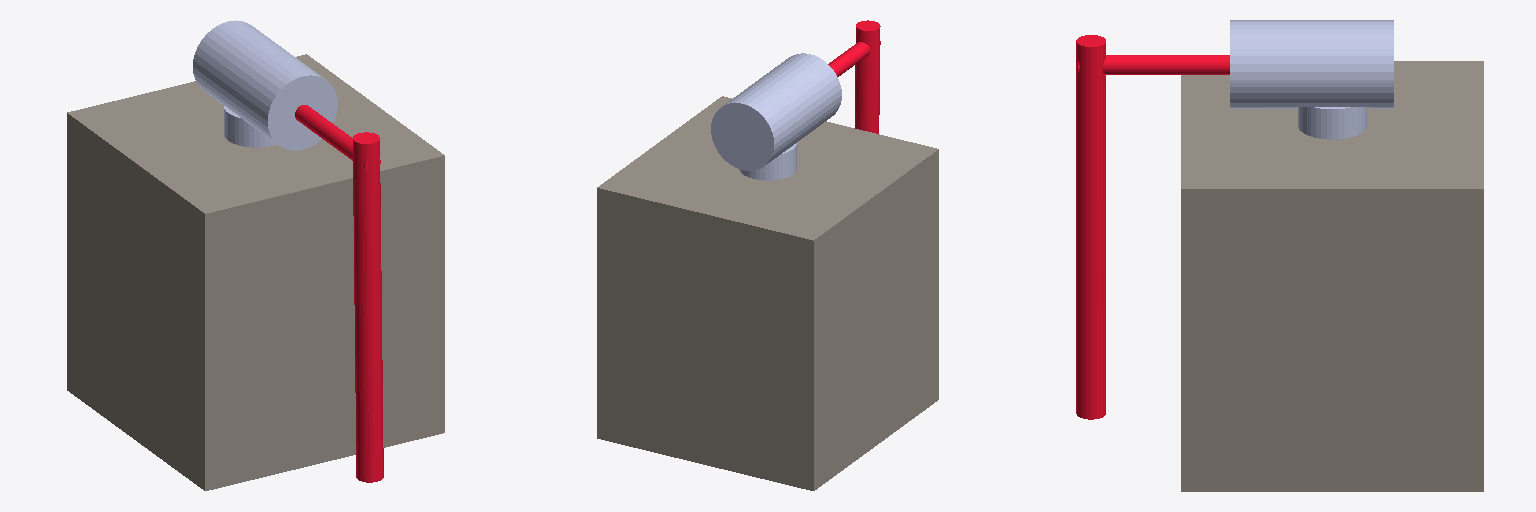
URDF robot description (rotary_pendulum_urdf):
<?xml version="1.0" encoding="utf-8"?>
<!-- This URDF was automatically created by SolidWorks to URDF Exporter! Originally created by Stephen Brawner (brawner@gmail.com) 
     Commit Version: 1.6.0-4-g7f85cfe  Build Version: 1.6.7995.38578
     For more information, please see http://wiki.ros.org/sw_urdf_exporter -->
<robot
  name="rotary_pendulum_urdf">
  <link
    name="base_link">
    <inertial>
      <origin
        xyz="1.30104260698261E-18 0 0.0524980547483315"
        rpy="0 0 0" />
      <mass
        value="7.44616085557537" />
      <inertia
        ixx="0.012440992728397"
        ixy="2.35693289558265E-19"
        ixz="2.81450788395657E-20"
        iyy="0.012440992728397"
        iyz="-2.09398391915433E-24"
        izz="0.0112006750044298" />
    </inertial>
    <visual>
      <origin
        xyz="0 0 0"
        rpy="0 0 0" />
      <geometry>
        <mesh
          filename="package://rotary_pendulum_urdf/meshes/base_link.STL" />
      </geometry>
      <material
        name="">
        <color
          rgba="0.650980392156863 0.619607843137255 0.588235294117647 1" />
      </material>
    </visual>
    <collision>
      <origin
        xyz="0 0 0"
        rpy="0 0 0" />
      <geometry>
        <mesh
          filename="package://rotary_pendulum_urdf/meshes/base_link.STL" />
      </geometry>
    </collision>
  </link>
  <link
    name="cart_link">
    <inertial>
      <origin
        xyz="-1.43114686768087E-17 -0.00651554402554576 0.0210483391997777"
        rpy="0 0 0" />
      <mass
        value="0.35" />
      <inertia
        ixx="6.28220390509056E-05"
        ixy="1.9860245584519E-20"
        ixz="-1.96021911330094E-21"
        iyy="2.20841827611899E-05"
        iyz="-6.16554118428692E-07"
        izz="6.39125771009001E-05" />
    </inertial>
    <visual>
      <origin
        xyz="0 0 0"
        rpy="0 0 0" />
      <geometry>
        <mesh
          filename="package://rotary_pendulum_urdf/meshes/cart_link.STL" />
      </geometry>
      <material
        name="">
        <color
          rgba="0.792156862745098 0.819607843137255 0.933333333333333 1" />
      </material>
    </visual>
    <collision>
      <origin
        xyz="0 0 0"
        rpy="0 0 0" />
      <geometry>
        <mesh
          filename="package://rotary_pendulum_urdf/meshes/cart_link.STL" />
      </geometry>
    </collision>
  </link>
  <joint
    name="Revolute_1"
    type="continuous">
    <origin
      xyz="0 0 0.105"
      rpy="0 0 0" />
    <parent
      link="base_link" />
    <child
      link="cart_link" />
    <axis
      xyz="0 0 0" />
  </joint>
  <link
    name="pendulum">
    <inertial>
      <origin
        xyz="0.000581973331558416 -0.0408159674611681 -0.049171999554707"
        rpy="0 0 0" />
      <mass
        value="0.37" />
      <inertia
        ixx="4.68436323847433E-05"
        ixy="-3.65997993841831E-10"
        ixz="5.36257833722173E-07"
        iyy="4.57298825428693E-05"
        iyz="3.10174779514858E-08"
        izz="1.54136862628222E-06" />
    </inertial>
    <visual>
      <origin
        xyz="0 0 0"
        rpy="0 0 0" />
      <geometry>
        <mesh
          filename="package://rotary_pendulum_urdf/meshes/pendulum.STL" />
      </geometry>
      <material
        name="">
        <color
          rgba="1 0.125490196078431 0.258823529411765 1" />
      </material>
    </visual>
    <collision>
      <origin
        xyz="0 0 0"
        rpy="0 0 0" />
      <geometry>
        <mesh
          filename="package://rotary_pendulum_urdf/meshes/pendulum.STL" />
      </geometry>
    </collision>
  </link>
  <joint
    name="Revolute_2"
    type="continuous">
    <origin
      xyz="0 -0.03211 0.020919"
      rpy="0 0 0" />
    <parent
      link="cart_link" />
    <child
      link="pendulum" />
    <axis
      xyz="0 1 0" />
  </joint>
</robot>

--- Render facts (derived) ---
3 views of the same robot in one strip: view 1: azimuth 30°, elevation 25°; view 2: azimuth 150°, elevation 25°; view 3: azimuth 270°, elevation 25° (orthographic).
Robot: rotary_pendulum_urdf — 3 links, 2 joints (2 continuous); root link base_link; default pose: every joint at zero.
Visible links, largest first — view 1: base_link, cart_link, pendulum; view 2: base_link, cart_link, pendulum; view 3: base_link, cart_link, pendulum.
Boxes of the visible links, x1=… form: base_link: x1=67, y1=54, x2=444, y2=490; cart_link: x1=193, y1=20, x2=337, y2=150; pendulum: x1=295, y1=105, x2=383, y2=482; base_link: x1=597, y1=96, x2=938, y2=490; cart_link: x1=711, y1=53, x2=841, y2=180; pendulum: x1=828, y1=20, x2=880, y2=133; base_link: x1=1181, y1=61, x2=1483, y2=491; cart_link: x1=1230, y1=20, x2=1393, y2=139; pendulum: x1=1076, y1=35, x2=1229, y2=419.
Bounding box of the posed robot: 0.095 × 0.128 × 0.1398 m (x, y, z).
3 mesh visuals loaded from 3 distinct referenced files (3 binary STL).
